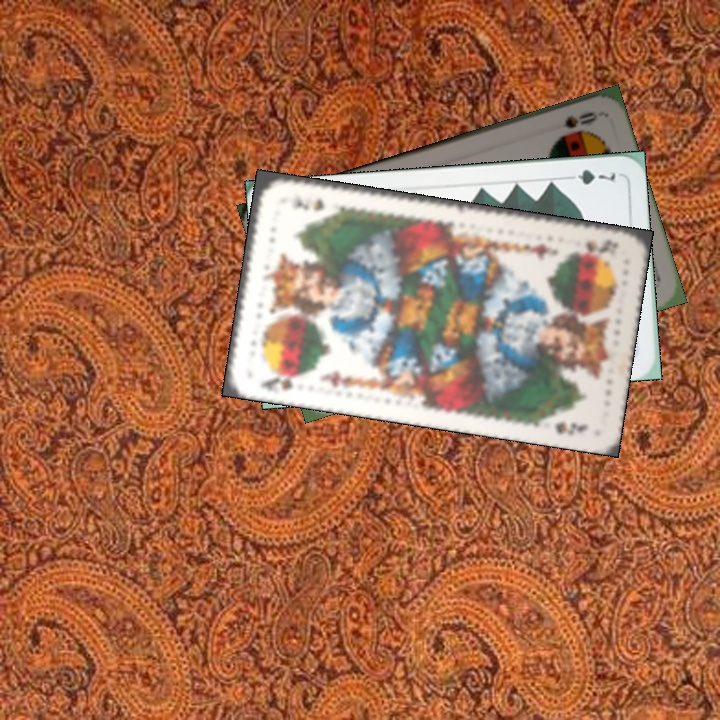G7: (560, 165, 619, 187)
SK: (256, 370, 306, 393), (578, 235, 621, 258)
SO: (560, 107, 600, 131)
